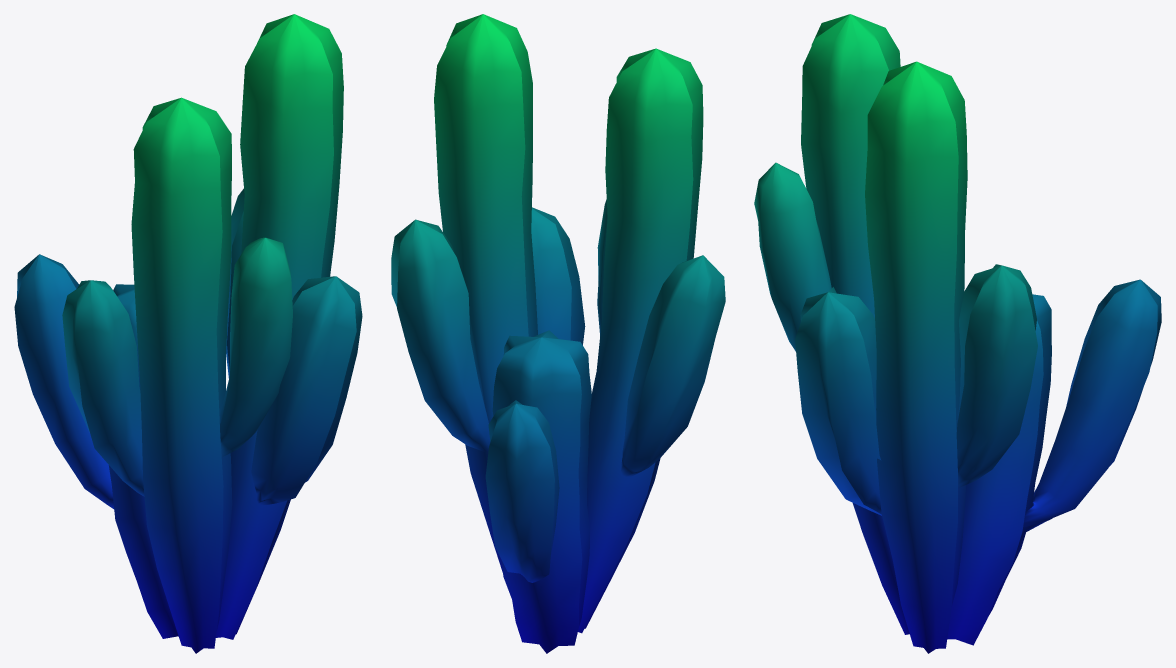
Rendered from Senita4.fbx.
The picture shows the model from 3 angles, left to right: view 1: azimuth 30°, elevation 25°; view 2: azimuth 150°, elevation 25°; view 3: azimuth 270°, elevation 25°; orthographic projection. The views are drawn at different scales.
Parts seen in each view (by area): view 1: Senita4_LOD0; view 2: Senita4_LOD0; view 3: Senita4_LOD0.
Part boxes in pixels (x1,y1,x2,y2): Senita4_LOD0: (14,14,362,653); Senita4_LOD0: (391,14,725,653); Senita4_LOD0: (754,14,1161,653).
Size of what is drawn, in the model's own units: 91 by 187 by 111.
